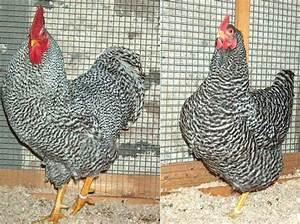hen: (0, 4, 146, 223), (178, 14, 295, 218)
